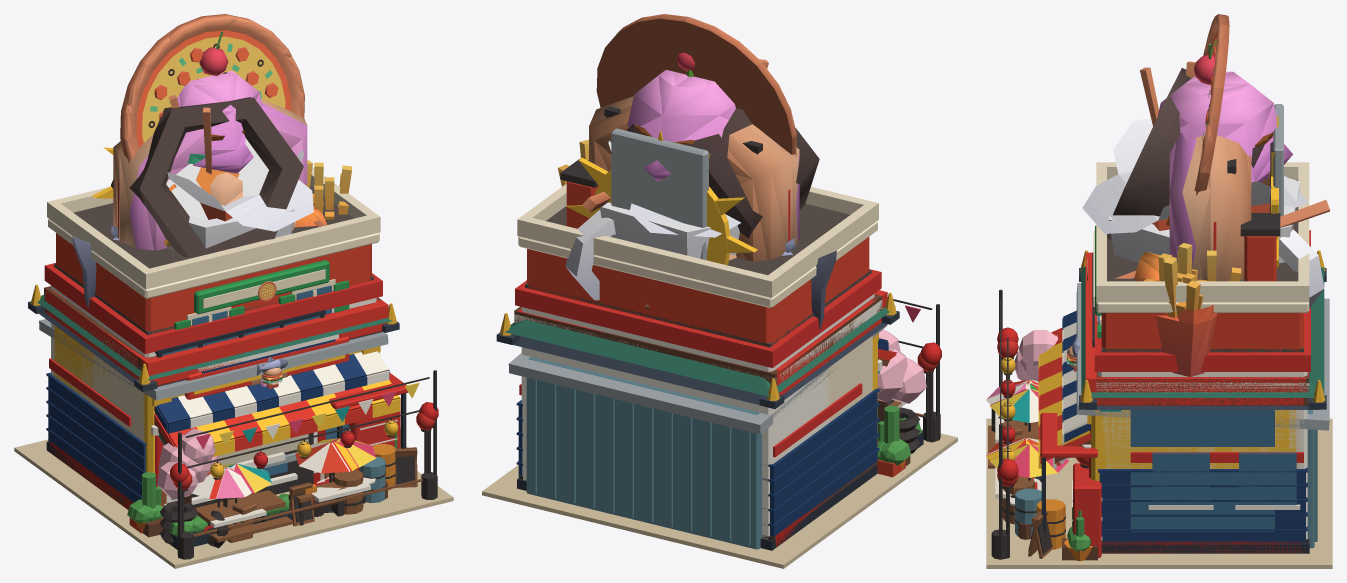
File: restaurants.glb
3 renders of one model, left to right at view 1: azimuth 30°, elevation 25°; view 2: azimuth 150°, elevation 25°; view 3: azimuth 270°, elevation 25°, orthographic. The views are drawn at different scales.
Parts seen in each view (by area): view 1: rest-pizza, office, rest-burger, rest-fish, rest-sushi-sign, rest-pizza-sign, garage, rest-donut-sign, rest-noodle, rest-cafe, rest-taco, rest-noodle-sign (+7 smaller); view 2: garage, rest-pizza, office, rest-pizza-sign, rest-fish, rest-donut-sign, rest-doner, rest-noodle, rest-sushi, rest-icecream-sign, rest-cafe, rest-burger (+5 smaller); view 3: office, rest-burger, rest-pizza, rest-fish, rest-donut-sign, garage, rest-icecream-sign, rest-noodle, rest-sushi-sign, rest-cafe, rest-noodle-sign, rest-burger-sign (+6 smaller).
Boxes of the visible parts, x1=… form: rest-pizza: x1=47, y1=167, x2=380, y2=533; office: x1=14, y1=263, x2=453, y2=568; rest-burger: x1=45, y1=147, x2=417, y2=516; rest-fish: x1=44, y1=292, x2=437, y2=559; rest-sushi-sign: x1=111, y1=97, x2=326, y2=257; rest-pizza-sign: x1=120, y1=14, x2=304, y2=163; garage: x1=14, y1=319, x2=453, y2=568; rest-donut-sign: x1=113, y1=99, x2=307, y2=250; rest-noodle: x1=31, y1=284, x2=438, y2=533; rest-cafe: x1=44, y1=286, x2=406, y2=537; rest-taco: x1=54, y1=327, x2=436, y2=558; rest-noodle-sign: x1=167, y1=94, x2=313, y2=231; garage: x1=482, y1=325, x2=957, y2=568; rest-pizza: x1=517, y1=106, x2=908, y2=477; office: x1=482, y1=269, x2=957, y2=568; rest-pizza-sign: x1=596, y1=14, x2=796, y2=156; rest-fish: x1=514, y1=299, x2=940, y2=539; rest-donut-sign: x1=589, y1=96, x2=799, y2=261; rest-doner: x1=518, y1=128, x2=906, y2=407; rest-noodle: x1=500, y1=292, x2=941, y2=540; rest-sushi: x1=496, y1=311, x2=938, y2=441; rest-icecream-sign: x1=627, y1=52, x2=735, y2=181; rest-cafe: x1=514, y1=294, x2=910, y2=541; rest-burger: x1=566, y1=130, x2=897, y2=547; office: x1=986, y1=230, x2=1332, y2=568; rest-burger: x1=986, y1=116, x2=1305, y2=558; rest-pizza: x1=986, y1=159, x2=1309, y2=483; rest-fish: x1=988, y1=310, x2=1309, y2=559; rest-donut-sign: x1=1166, y1=133, x2=1251, y2=281; garage: x1=986, y1=283, x2=1332, y2=568; rest-icecream-sign: x1=1158, y1=43, x2=1292, y2=186; rest-noodle: x1=997, y1=250, x2=1325, y2=558; rest-sushi-sign: x1=1107, y1=68, x2=1329, y2=281; rest-cafe: x1=1010, y1=372, x2=1309, y2=560; rest-noodle-sign: x1=1082, y1=61, x2=1308, y2=233; rest-burger-sign: x1=1143, y1=228, x2=1293, y2=376.
Bounding box in the file's own units: 0.96 × 1.44 × 0.96.
26 materials, 2 textured.
